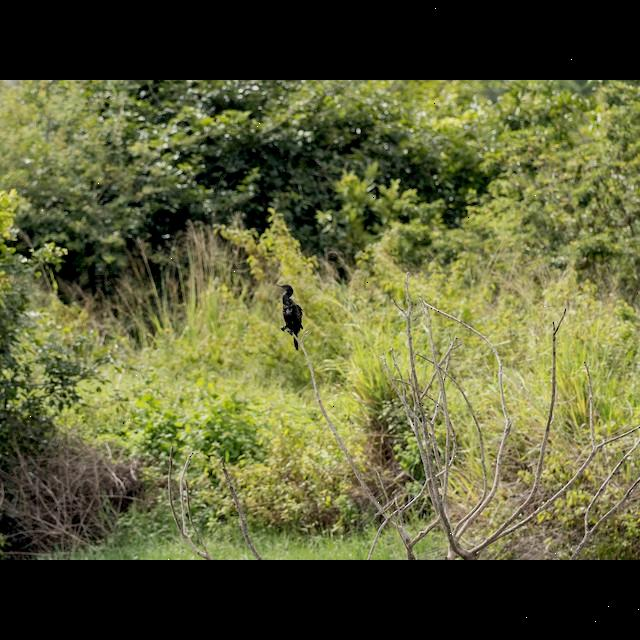cormorant: (271, 278, 305, 352)
